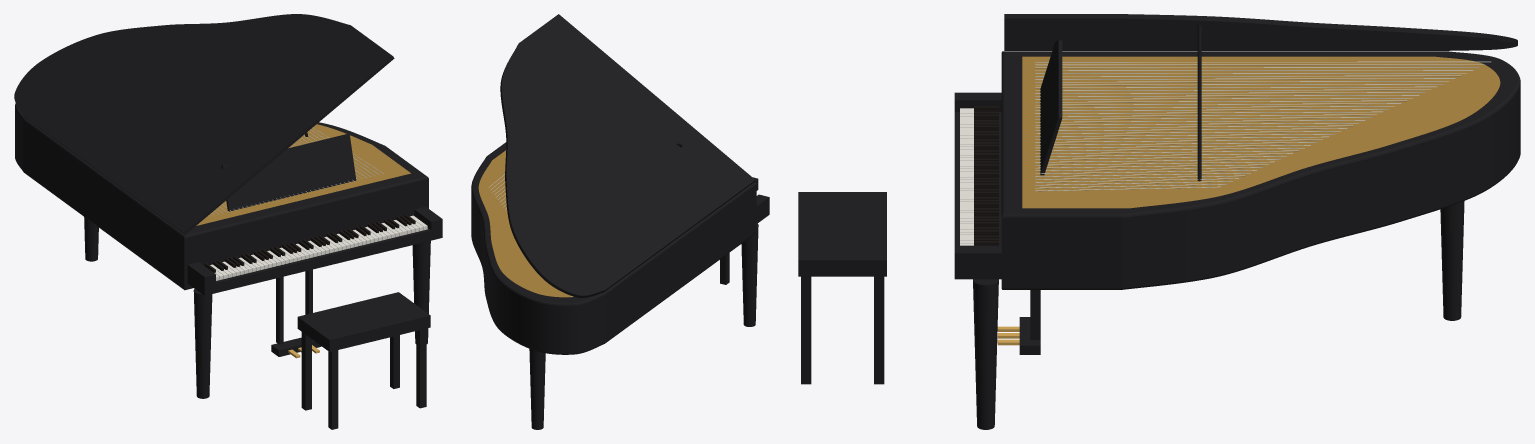
The model's file is piano.glb.
3 views of the same model, side by side, from view 1: azimuth 30°, elevation 25°; view 2: azimuth 150°, elevation 25°; view 3: azimuth 270°, elevation 25° (orthographic). The views are drawn at different scales.
Bounding box in the file's own units: 1.5 × 1.68 × 2.77.
